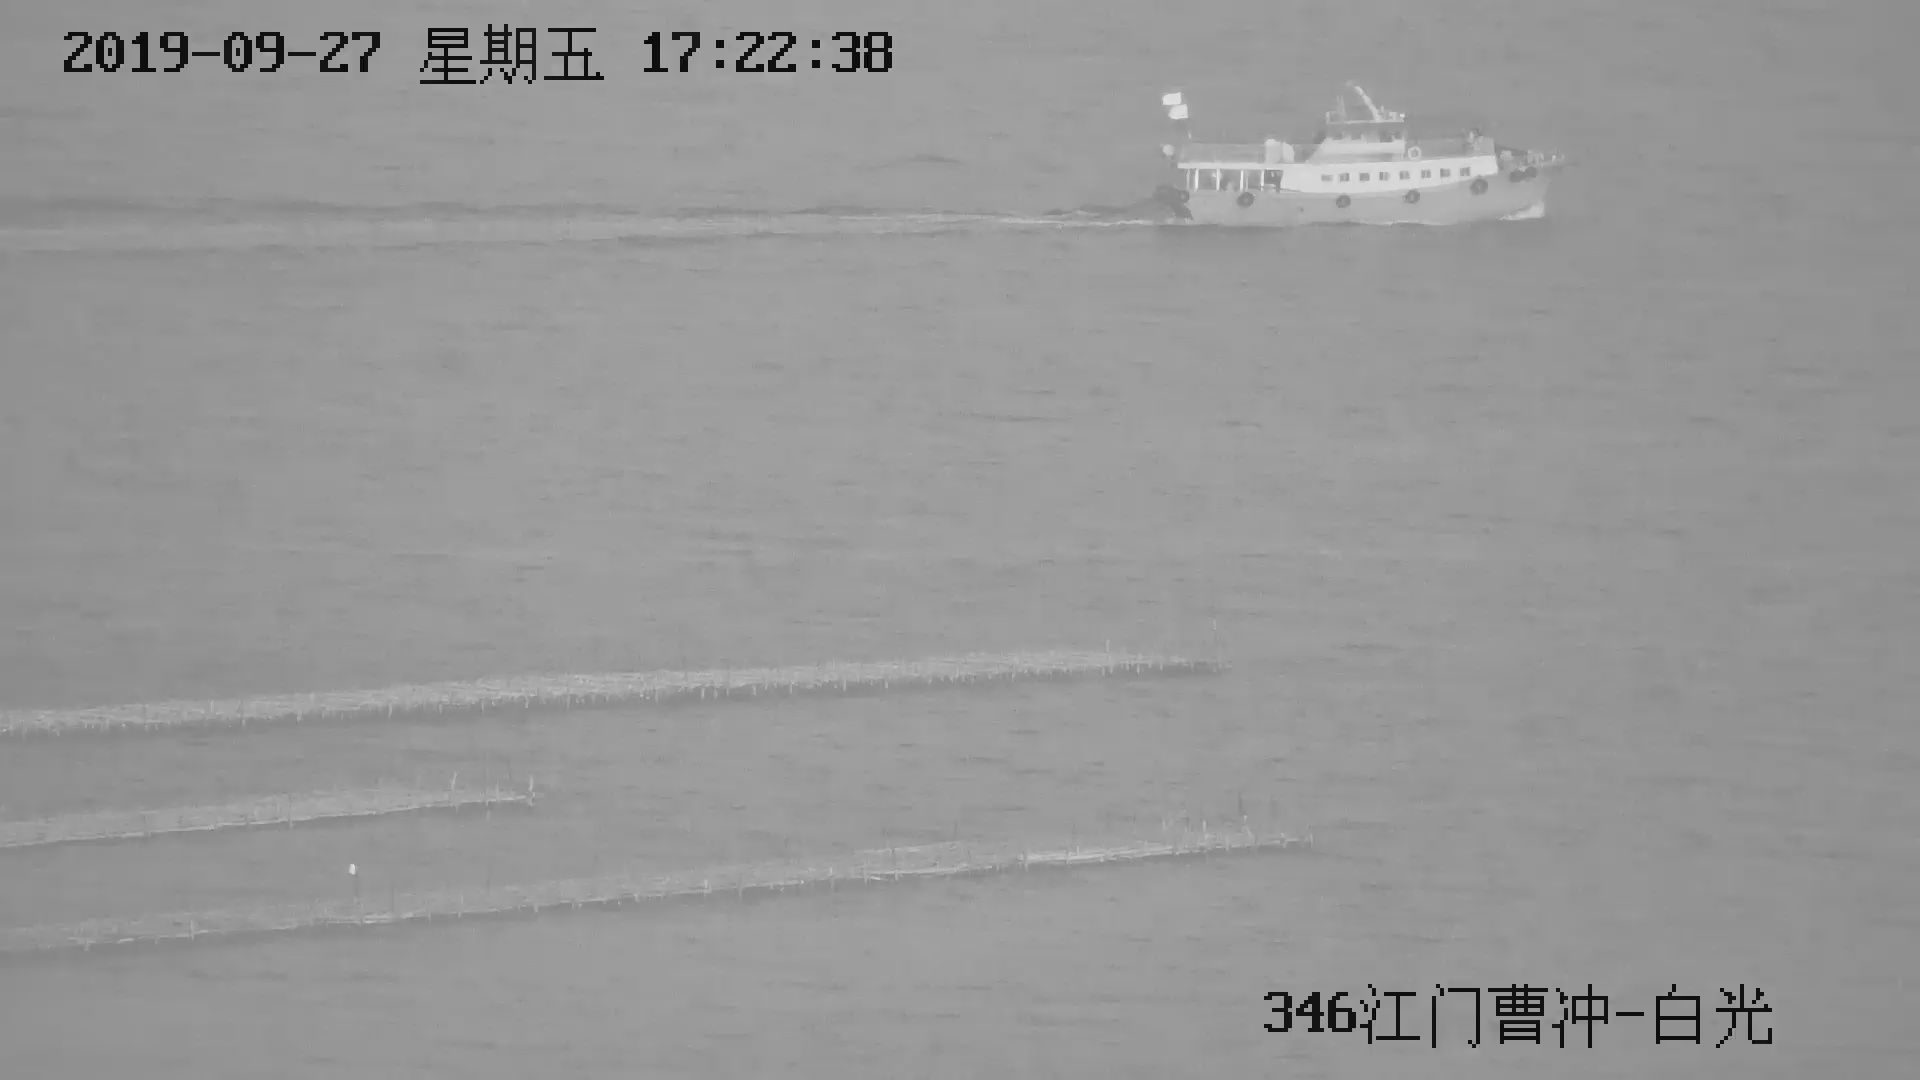ship: (1154, 82, 1565, 236)
